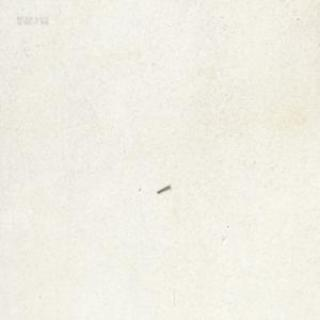Bolttrack_idkeyframe: (156, 182, 170, 193)
